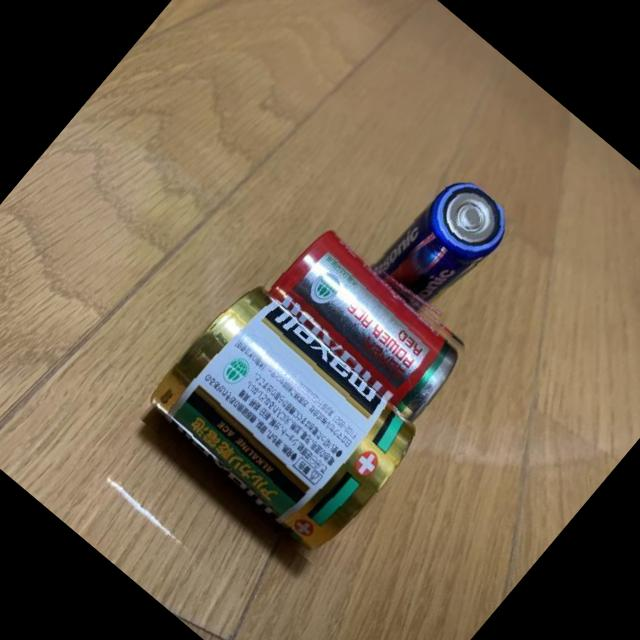Hazard: (130, 268, 440, 570), (248, 210, 486, 433), (364, 163, 519, 323)
